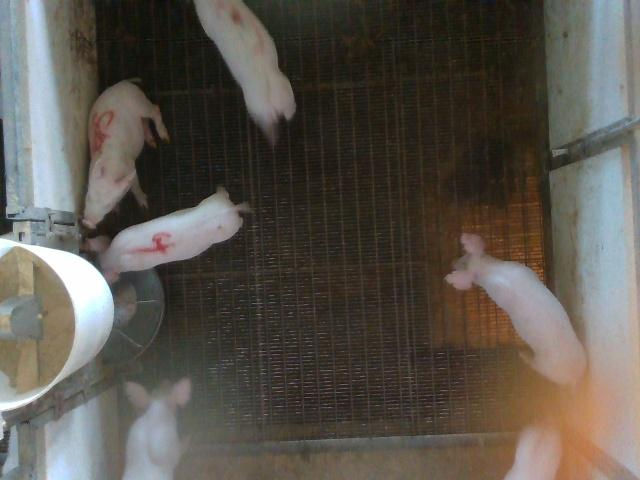pig-3: (194, 0, 296, 144)
pig-4: (86, 188, 250, 282)
pig-5: (82, 79, 169, 228)
